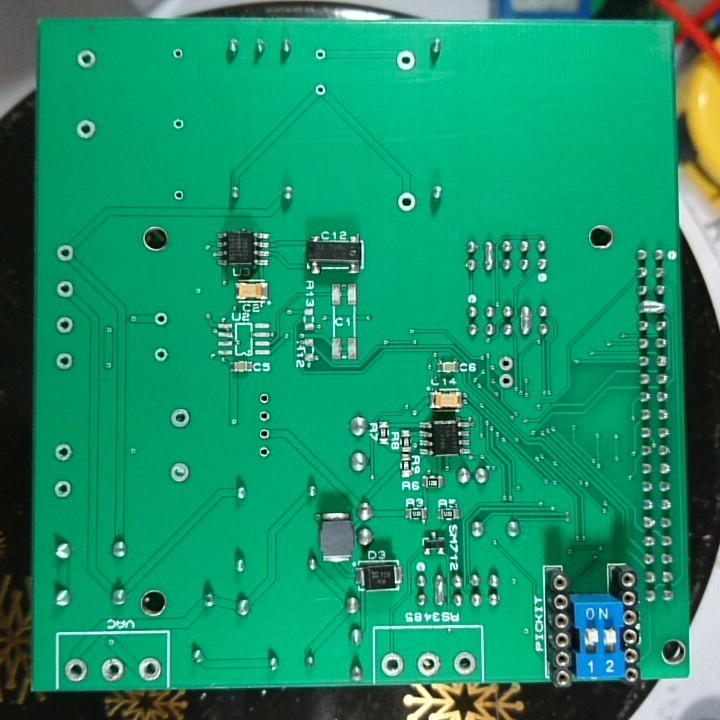F: (415, 648, 447, 678), (97, 654, 127, 683), (134, 654, 162, 684), (63, 656, 90, 683), (379, 650, 406, 677), (451, 649, 477, 676), (73, 48, 101, 73), (73, 117, 100, 142), (166, 458, 190, 486), (395, 189, 421, 213), (169, 405, 192, 432), (54, 312, 76, 339), (395, 48, 419, 72), (54, 242, 79, 265), (52, 475, 75, 500), (53, 440, 75, 466), (53, 350, 78, 372), (53, 278, 76, 300), (496, 371, 517, 393), (150, 309, 173, 329), (256, 423, 276, 443), (497, 354, 518, 373), (152, 346, 172, 365), (313, 80, 331, 101), (170, 43, 188, 63), (256, 443, 276, 460), (170, 115, 186, 136), (255, 390, 276, 406), (313, 45, 329, 63), (172, 186, 186, 205), (257, 409, 274, 424)
P: (431, 571, 447, 612), (637, 299, 670, 318), (482, 240, 496, 275), (519, 303, 533, 338)
